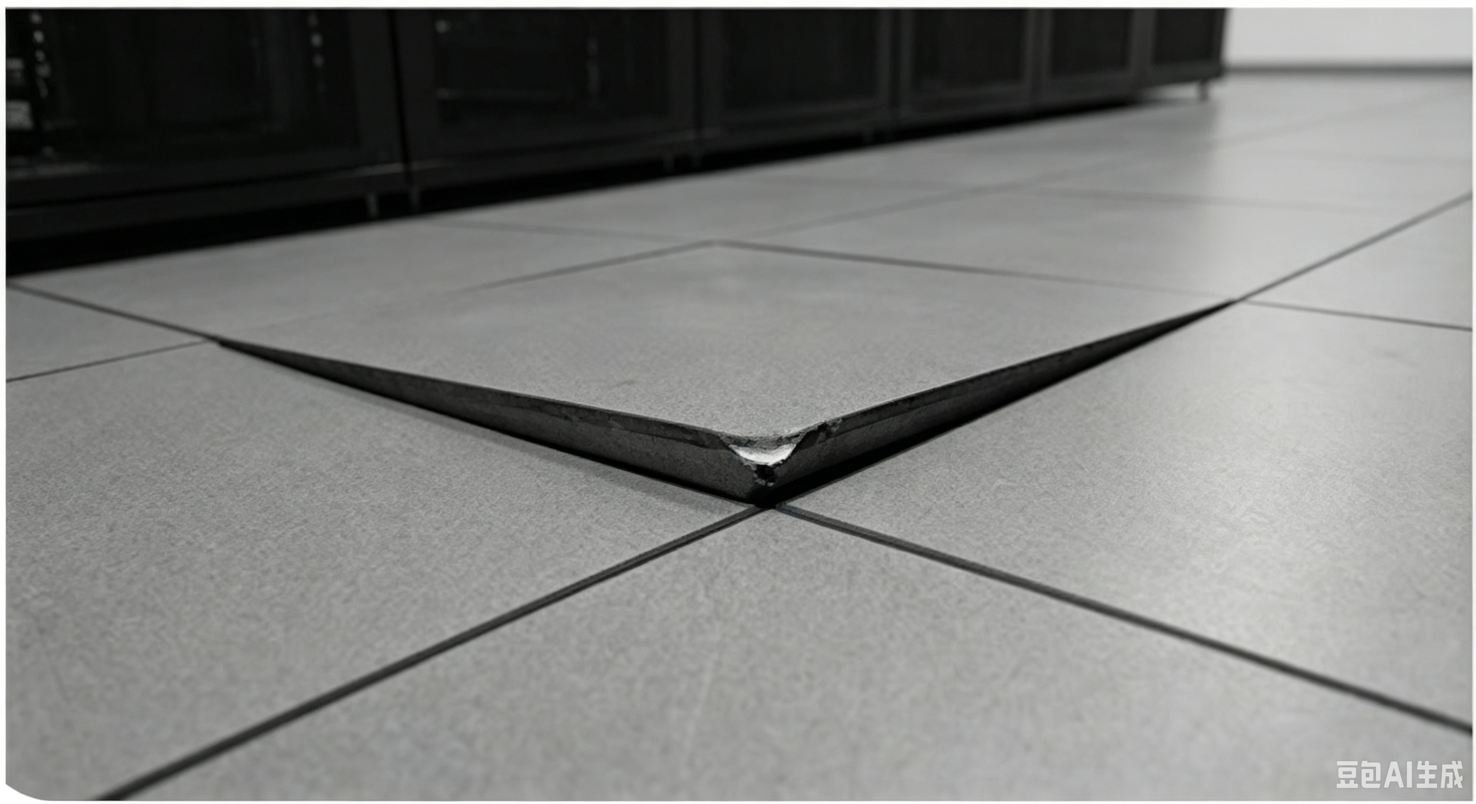floor_defect: (214, 300, 1261, 514)
